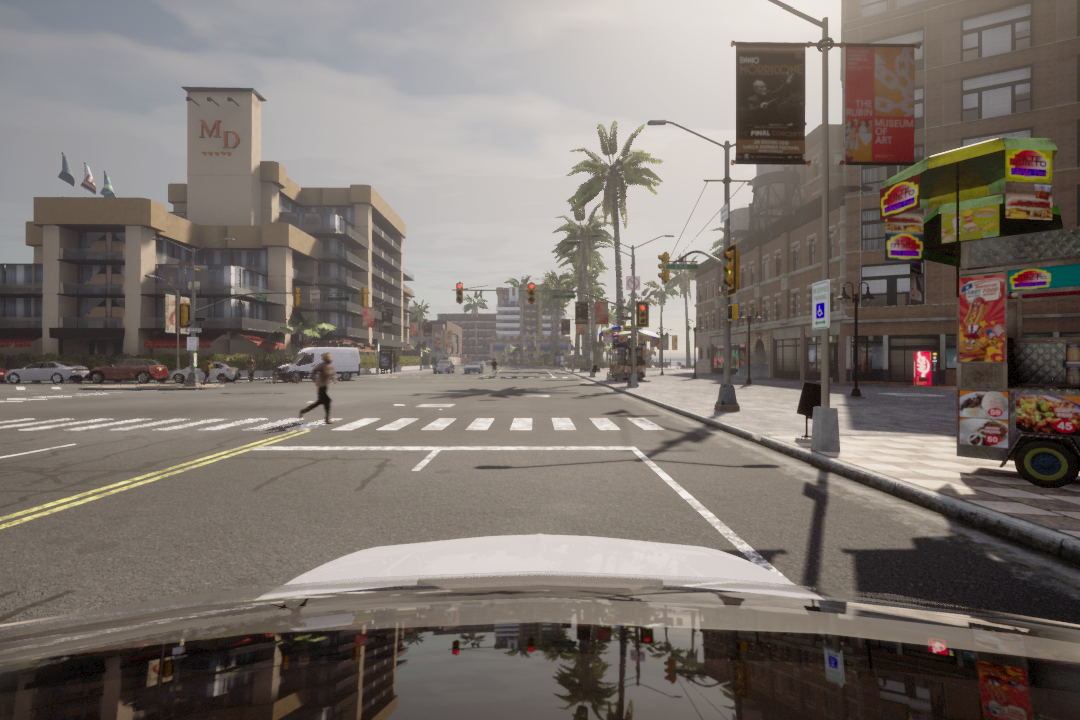TrafficLight: (724, 242, 738, 294), (634, 299, 651, 325), (655, 248, 667, 282), (454, 279, 465, 305), (527, 281, 534, 307)
TrafficSign: (626, 274, 642, 289)
walkside: (1, 412, 717, 437)
